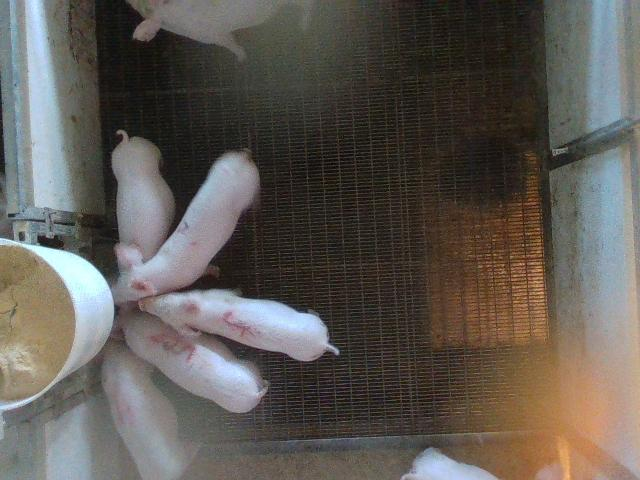pig-3: (119, 308, 268, 412)
pig-4: (101, 330, 199, 479)
pig-5: (139, 289, 339, 361)
